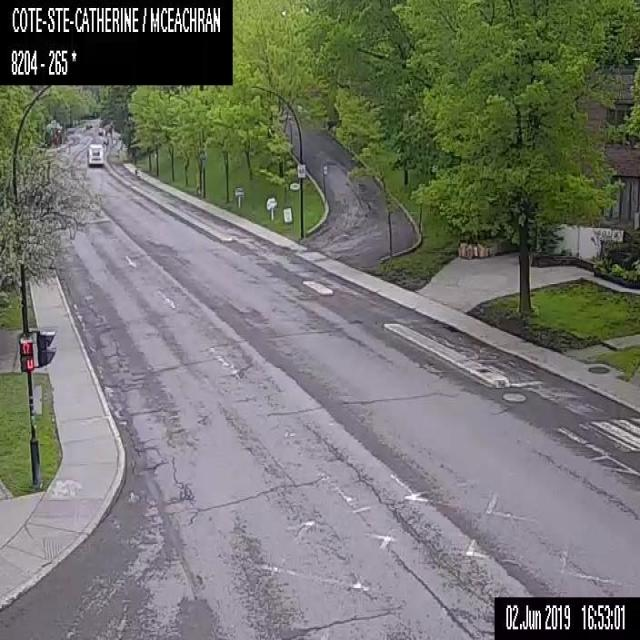bus: (86, 141, 102, 164)
vehicle: (95, 126, 102, 134)
